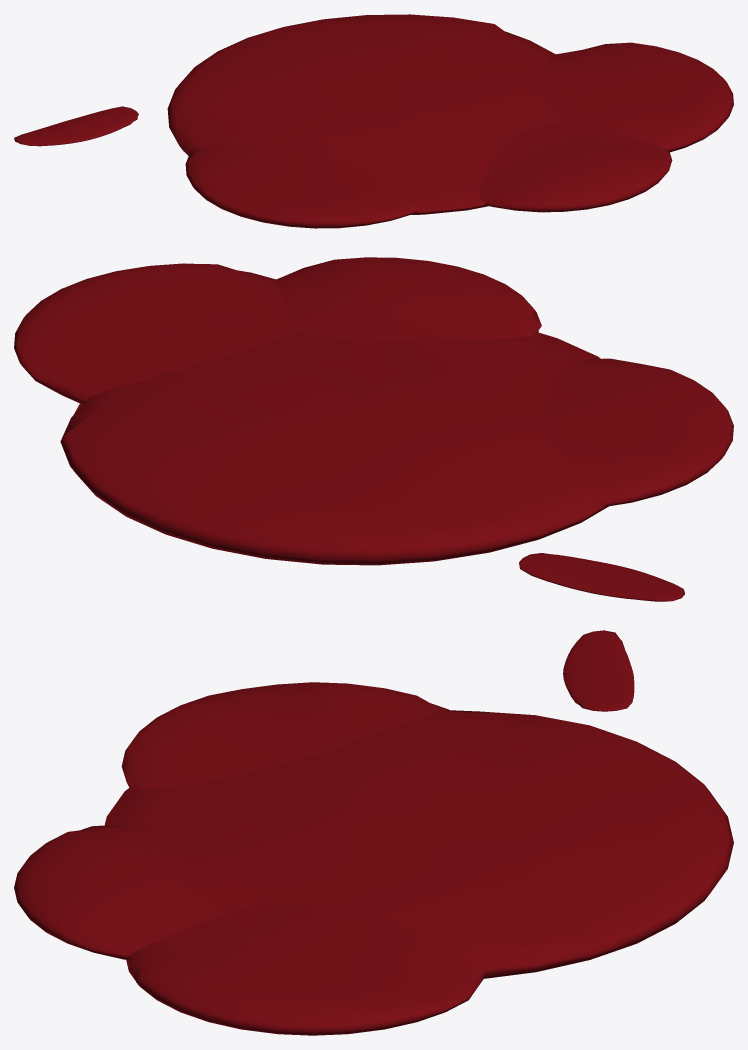
The model's file is KANMI.fbx.
The picture shows the model from 3 angles, top to bottom: view 1: azimuth 30°, elevation 25°; view 2: azimuth 150°, elevation 25°; view 3: azimuth 270°, elevation 25°; orthographic projection. The views are drawn at different scales.
Parts seen in each view (by area): view 1: Sphere; view 2: Sphere; view 3: Sphere.
Part boxes in pixels (x1,y1,x2,y2): Sphere: [14, 14, 733, 228]; Sphere: [14, 257, 733, 601]; Sphere: [14, 630, 733, 1035].
Bounding box in the file's own units: 301 × 24.36 × 227.
